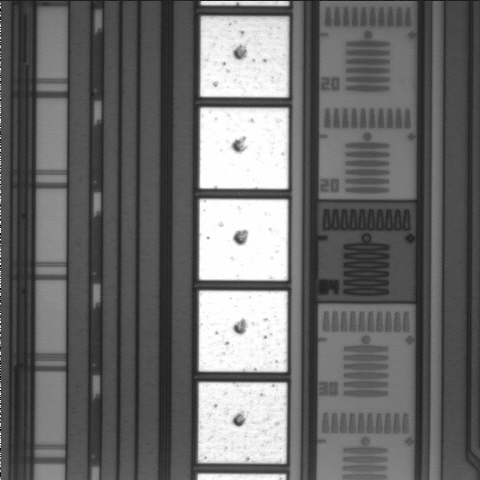pad: (199, 107, 289, 189), (199, 199, 288, 281), (198, 382, 287, 464), (200, 16, 289, 97), (199, 291, 287, 372)
